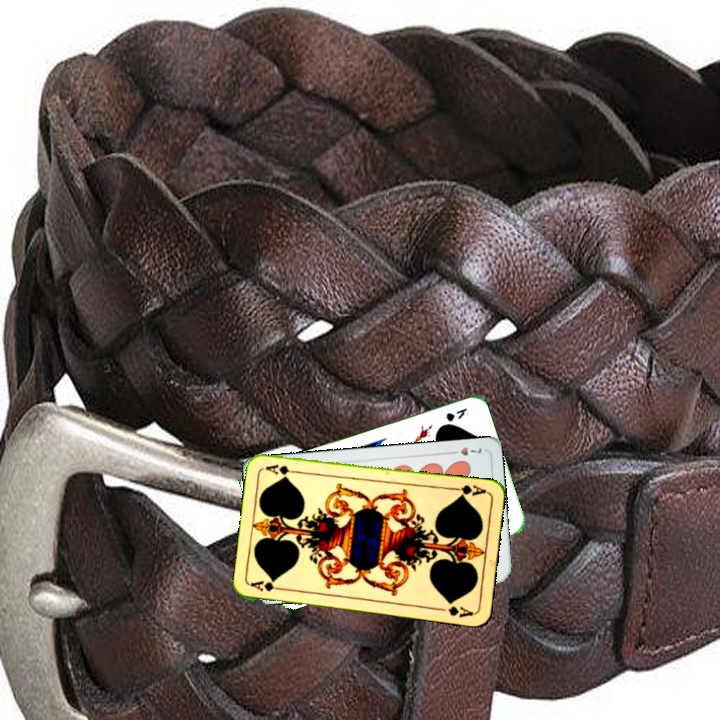GA: (448, 481, 489, 499), (247, 577, 288, 594)
GK: (440, 404, 471, 424)
H7: (445, 443, 484, 458)
